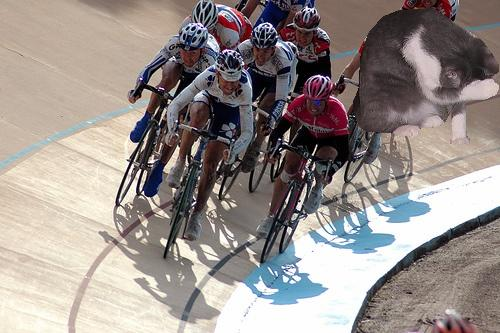tampered: (354, 8, 499, 144)
